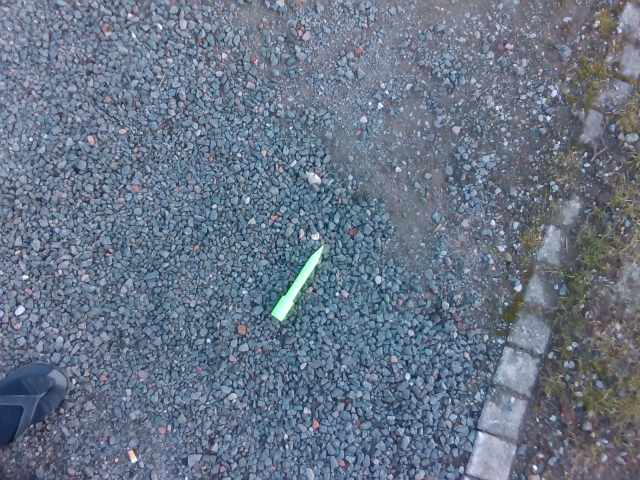Probe: (267, 241, 327, 324)
